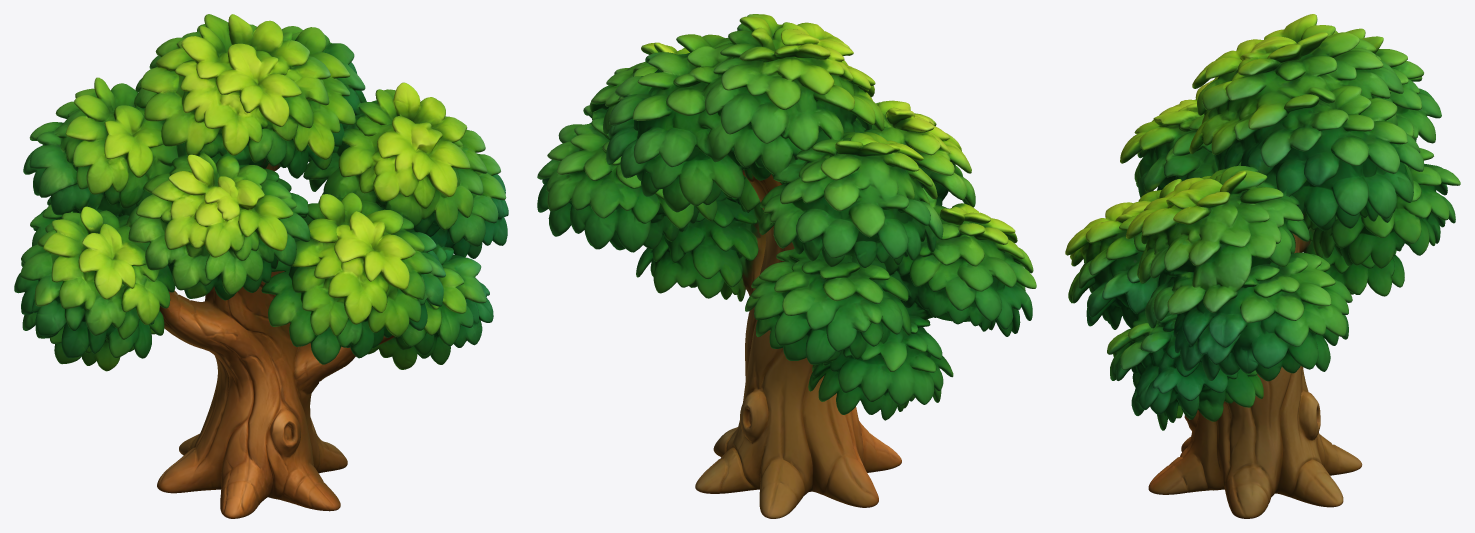
Rendered from StylizedTree.fbx.
3 renders of one model, left to right at view 1: azimuth 30°, elevation 25°; view 2: azimuth 150°, elevation 25°; view 3: azimuth 270°, elevation 25°, orthographic. The views are drawn at different scales.
Visible parts, largest first — view 1: tripo_node_e66411a5-ff99-4321-964d-a5799cdb7905; view 2: tripo_node_e66411a5-ff99-4321-964d-a5799cdb7905; view 3: tripo_node_e66411a5-ff99-4321-964d-a5799cdb7905.
Part boxes in pixels (x1,y1,x2,y2): tripo_node_e66411a5-ff99-4321-964d-a5799cdb7905: (14,14,508,518); tripo_node_e66411a5-ff99-4321-964d-a5799cdb7905: (537,14,1036,518); tripo_node_e66411a5-ff99-4321-964d-a5799cdb7905: (1065,14,1460,518).
Bounding box in the file's own units: 97.97 × 89.94 × 71.68.
Materials: 1 (1 with a texture image).
